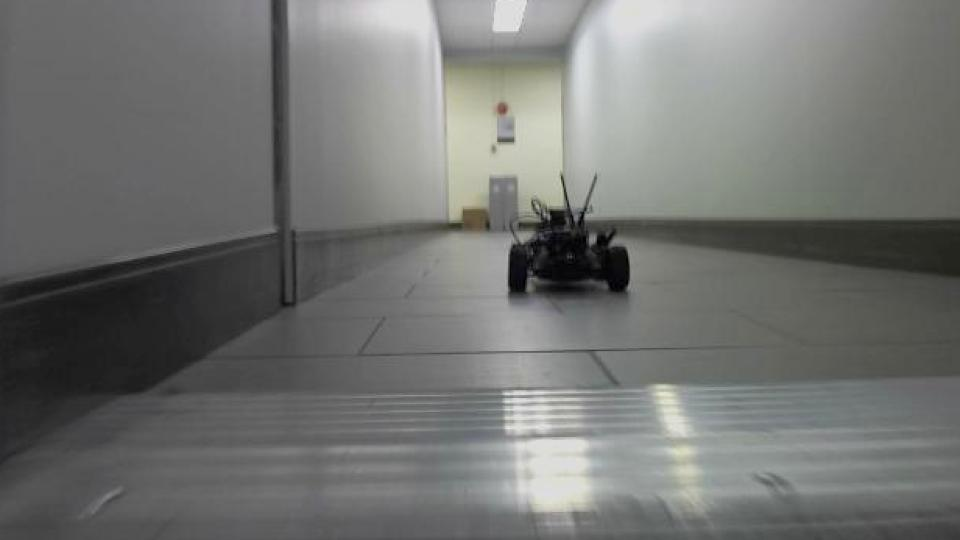car: (502, 169, 633, 298)
